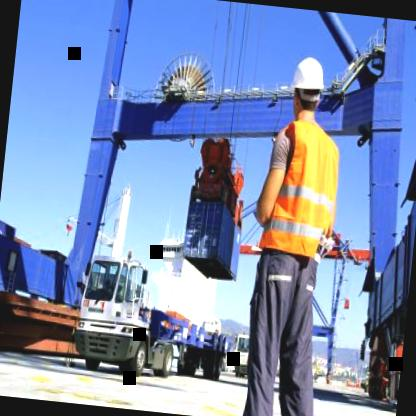helmet: (286, 48, 330, 122)
